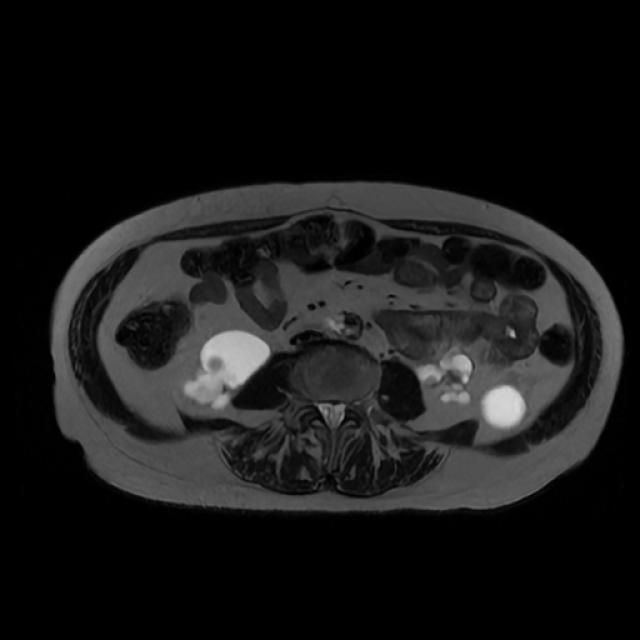sag: (181, 330, 271, 411)
sol: (415, 347, 527, 430)
